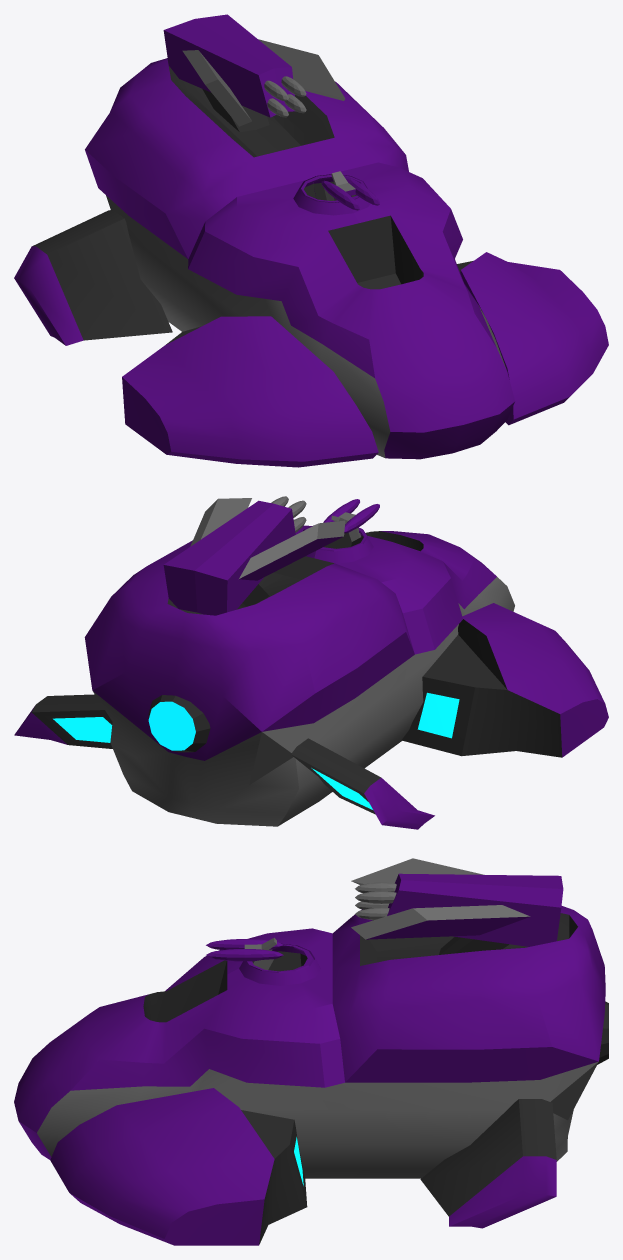
Rendered from Wraith.fbx.
The picture shows the model from 3 angles, top to bottom: view 1: azimuth 30°, elevation 25°; view 2: azimuth 150°, elevation 25°; view 3: azimuth 270°, elevation 25°; orthographic projection.
Parts seen in each view (by area): view 1: Body, Wing R, Wing L, Fin R, Mortar, Turret; view 2: Body, Wing R, Mortar, Fin R, Fin L, Turret; view 3: Body, Wing L, Mortar, Fin L, Turret.
Part boxes in pixels (x1,y1,x2,y2): Body: (85, 58, 514, 459); Wing R: (122, 316, 378, 467); Wing L: (457, 252, 608, 425); Fin R: (14, 210, 172, 345); Mortar: (163, 14, 345, 132); Turret: (300, 171, 379, 210); Body: (84, 525, 514, 826); Wing R: (401, 603, 608, 757); Mortar: (163, 496, 345, 615); Fin R: (291, 738, 434, 829); Fin L: (14, 694, 112, 748); Turret: (305, 499, 379, 551); Body: (14, 906, 608, 1178); Wing L: (50, 1088, 307, 1245); Mortar: (351, 858, 563, 954); Fin L: (420, 1099, 556, 1228); Turret: (206, 937, 313, 973).
Size of the model in its own units: 465 by 258 by 537.
